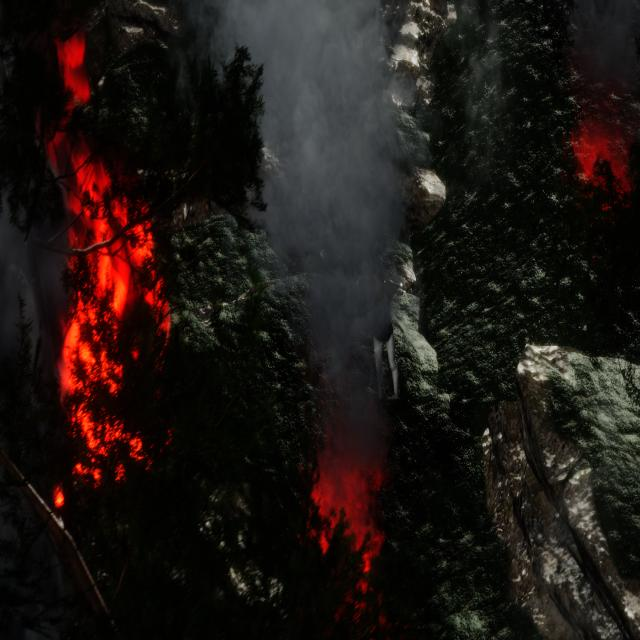Human: (366, 256, 406, 413)
